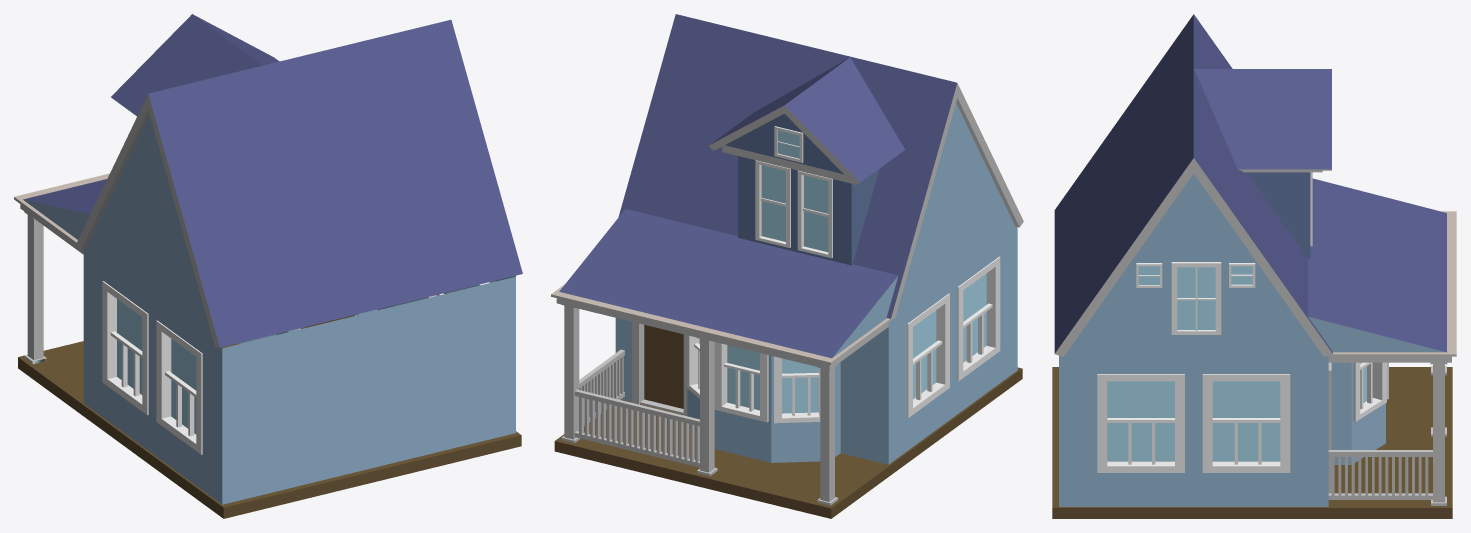
File: house5-transformed.glb
3 renders of one model, left to right at view 1: azimuth 30°, elevation 25°; view 2: azimuth 150°, elevation 25°; view 3: azimuth 270°, elevation 25°, orthographic. The views are drawn at different scales.
Parts seen in each view (by area): view 1: building.038; view 2: building.038; view 3: building.038.
Boxes of the visible parts, left/top/right/bottom form: building.038: left=14, top=14, right=522, bottom=518; building.038: left=551, top=14, right=1023, bottom=518; building.038: left=1052, top=14, right=1456, bottom=518.
Bounding box in the file's own units: 5.68 × 6.67 × 6.75.
Materials: 1 (1 with a texture image).
